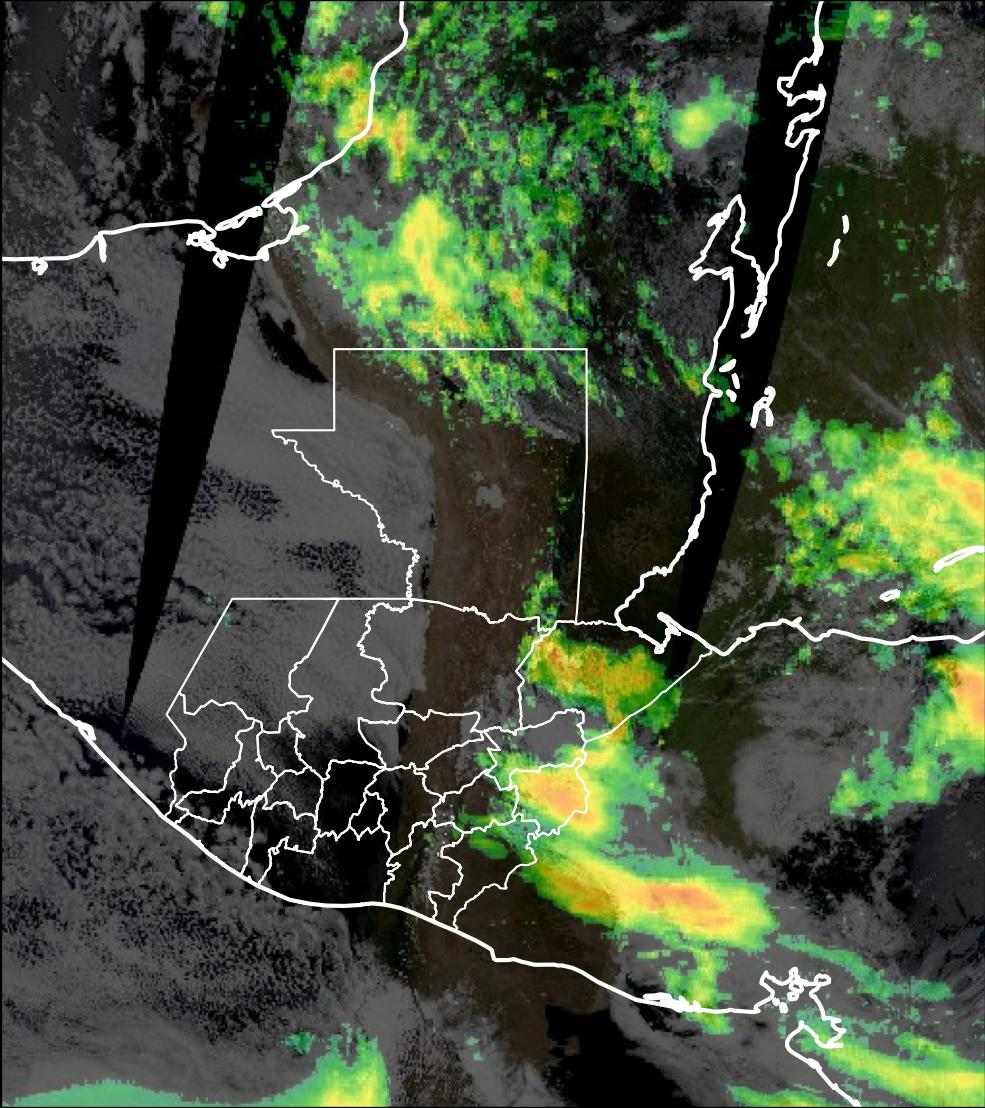precipitacion: (551, 840, 763, 954)
